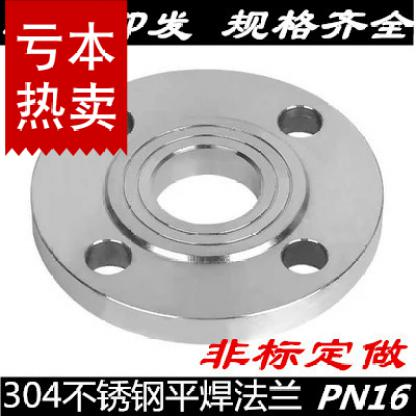FOD: (20, 64, 388, 350)
